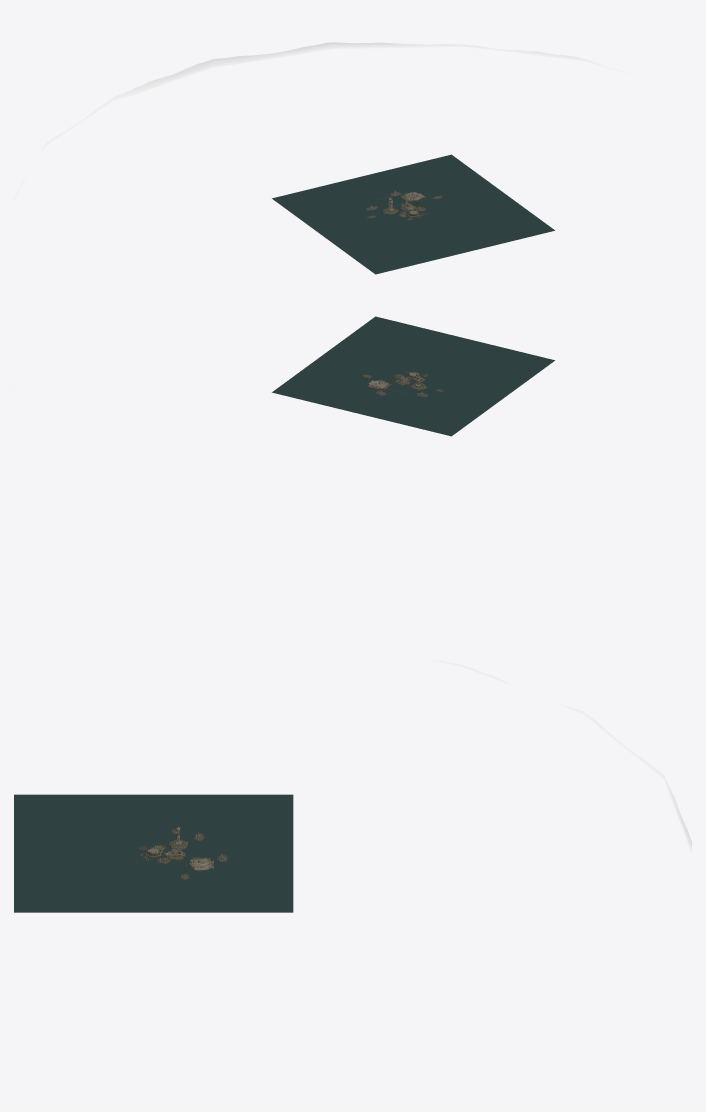
The model's file is dwarka_browser.glb.
3 views of the same model, one above another, from view 1: azimuth 30°, elevation 25°; view 2: azimuth 150°, elevation 25°; view 3: azimuth 270°, elevation 25° (orthographic). The views are drawn at different scales.
Parts seen in each view (by area): view 1: BR_Ocean_Surface; view 2: BR_Ocean_Surface; view 3: BR_Ocean_Surface.
Boxes of the visible parts, x1=… form: BR_Ocean_Surface: x1=272, y1=154, x2=554, y2=274; BR_Ocean_Surface: x1=272, y1=316, x2=554, y2=436; BR_Ocean_Surface: x1=14, y1=794, x2=293, y2=912.
Size of what is drawn, in the model's own units: 2595 by 189 by 1700.
Materials: 34 (19 with a texture image).
